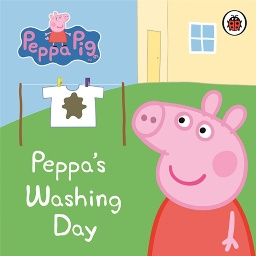Peppa: (130, 89, 256, 255)
